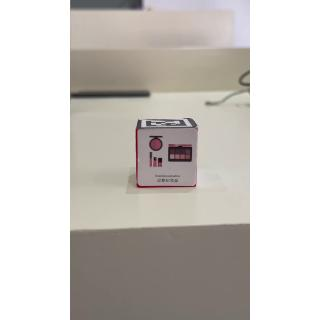Expired_Cosmetic: (136, 128, 201, 190)
